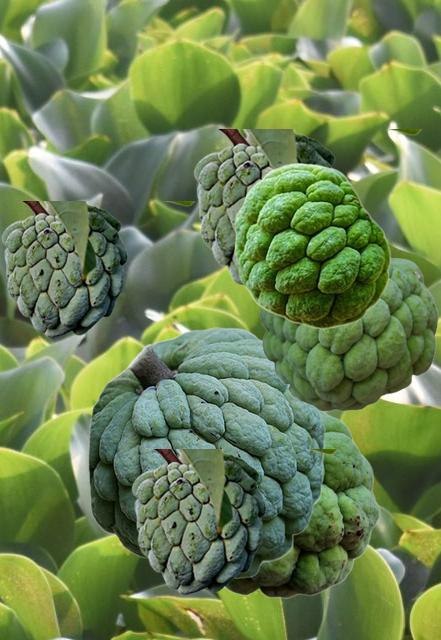atis: (88, 327, 324, 578), (193, 129, 420, 289), (131, 449, 336, 594), (225, 411, 379, 598), (259, 256, 437, 410), (1, 201, 193, 337), (234, 162, 390, 328)
